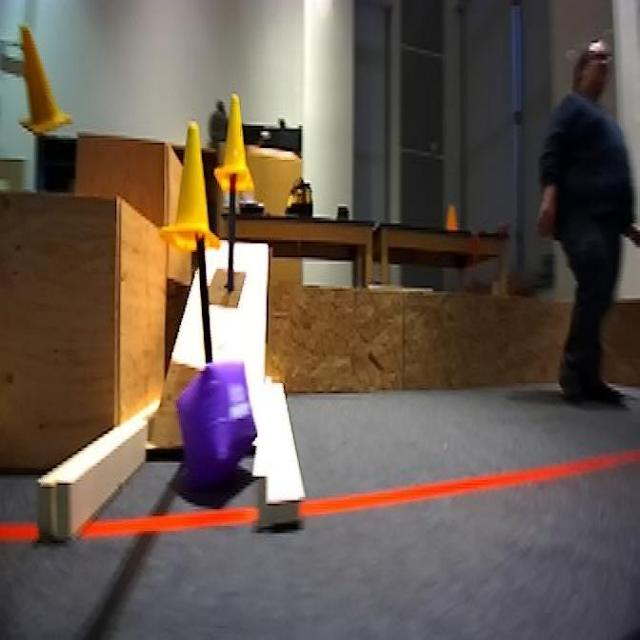frc_cone: (158, 117, 220, 252), (14, 19, 72, 138), (212, 90, 256, 192)
frc_cube: (176, 359, 257, 492)
